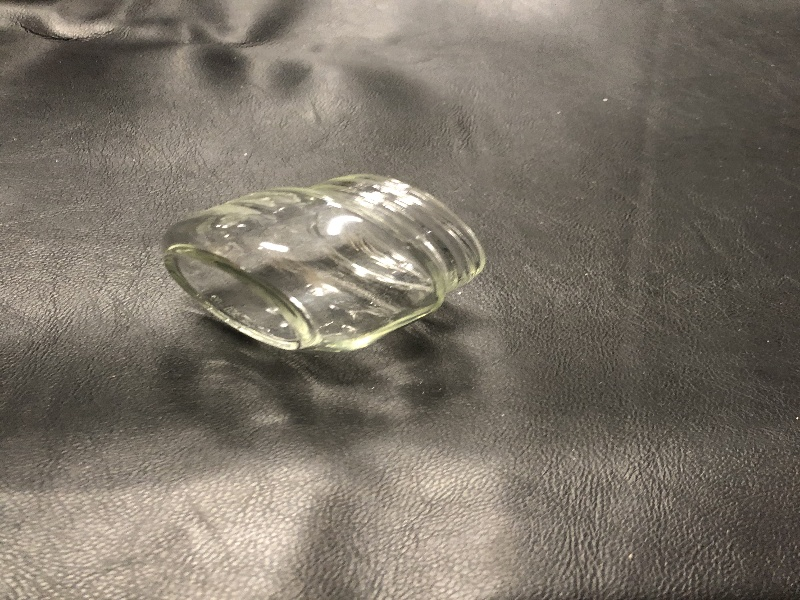glass: (148, 163, 504, 367)
